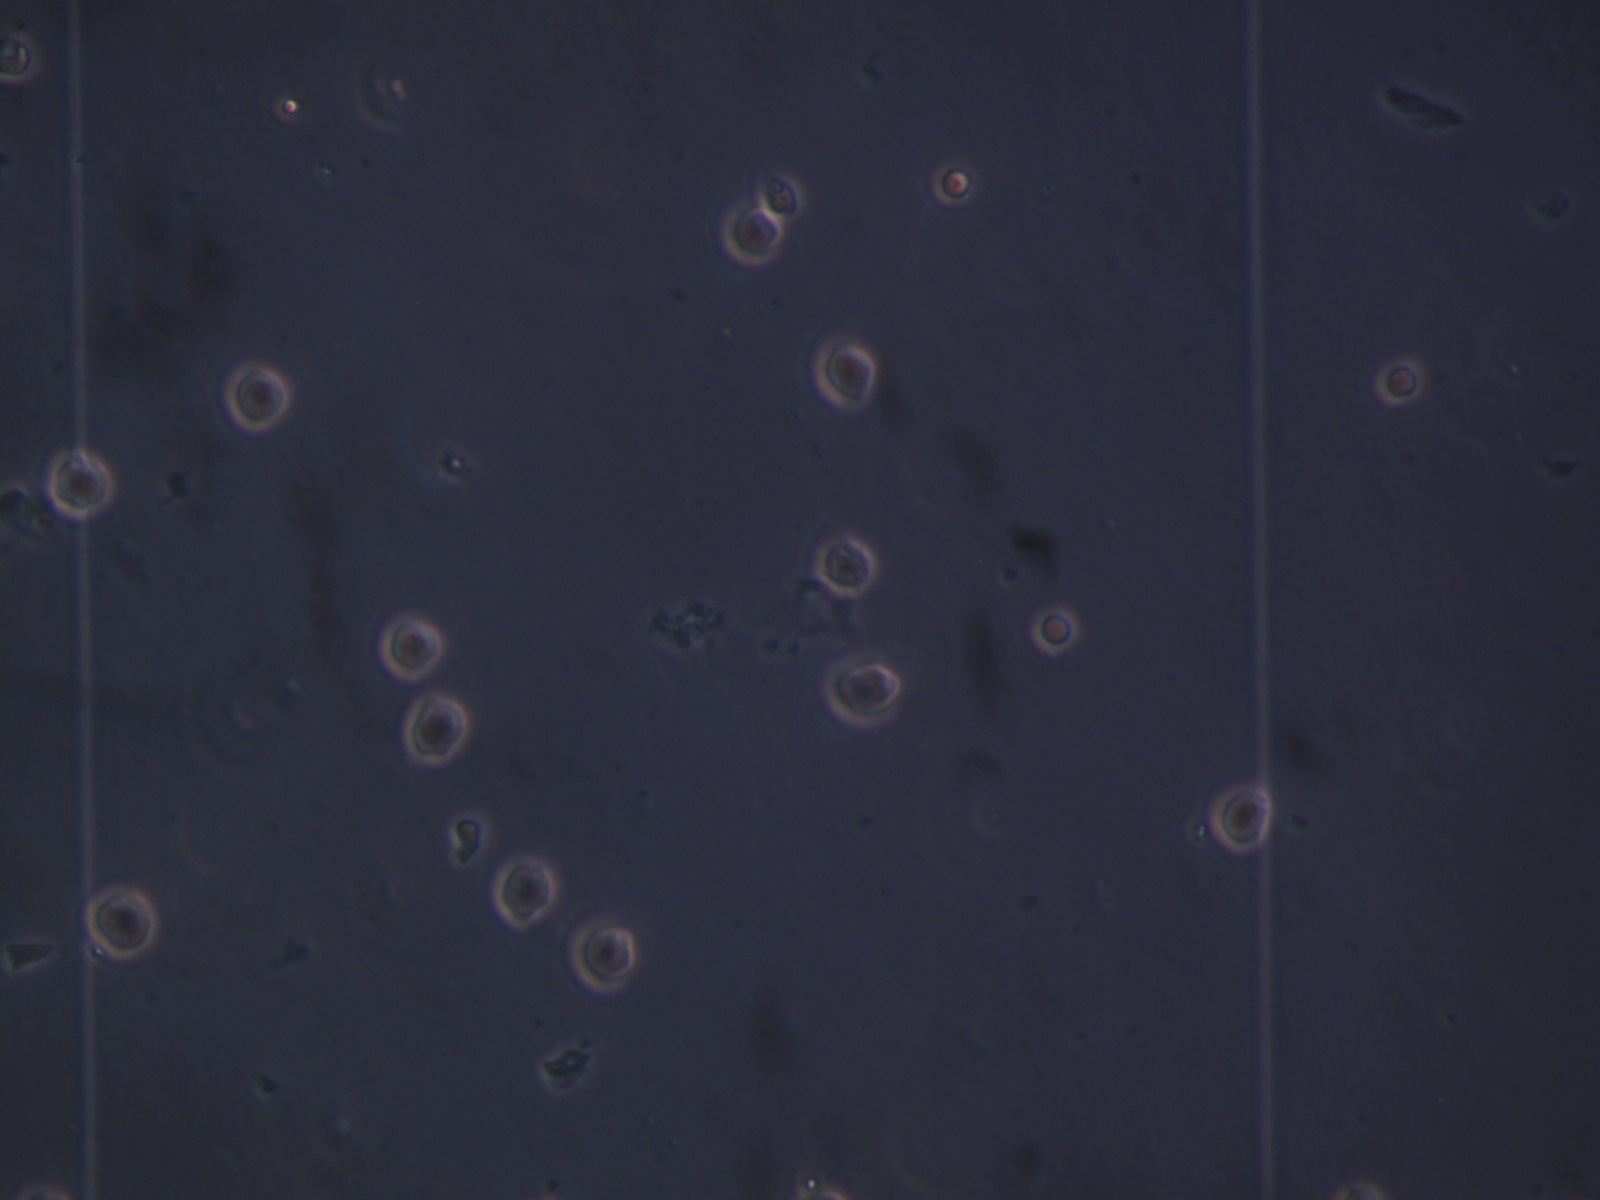hemo: (84, 884, 157, 961), (821, 655, 903, 724), (569, 915, 636, 995), (224, 359, 290, 434), (404, 689, 467, 764), (495, 855, 556, 930), (1209, 783, 1274, 853), (50, 447, 115, 518), (815, 337, 876, 410), (382, 616, 443, 681), (724, 200, 784, 266), (816, 537, 877, 597), (755, 169, 805, 221), (1373, 358, 1424, 405), (1031, 608, 1078, 655), (1, 34, 42, 87)
